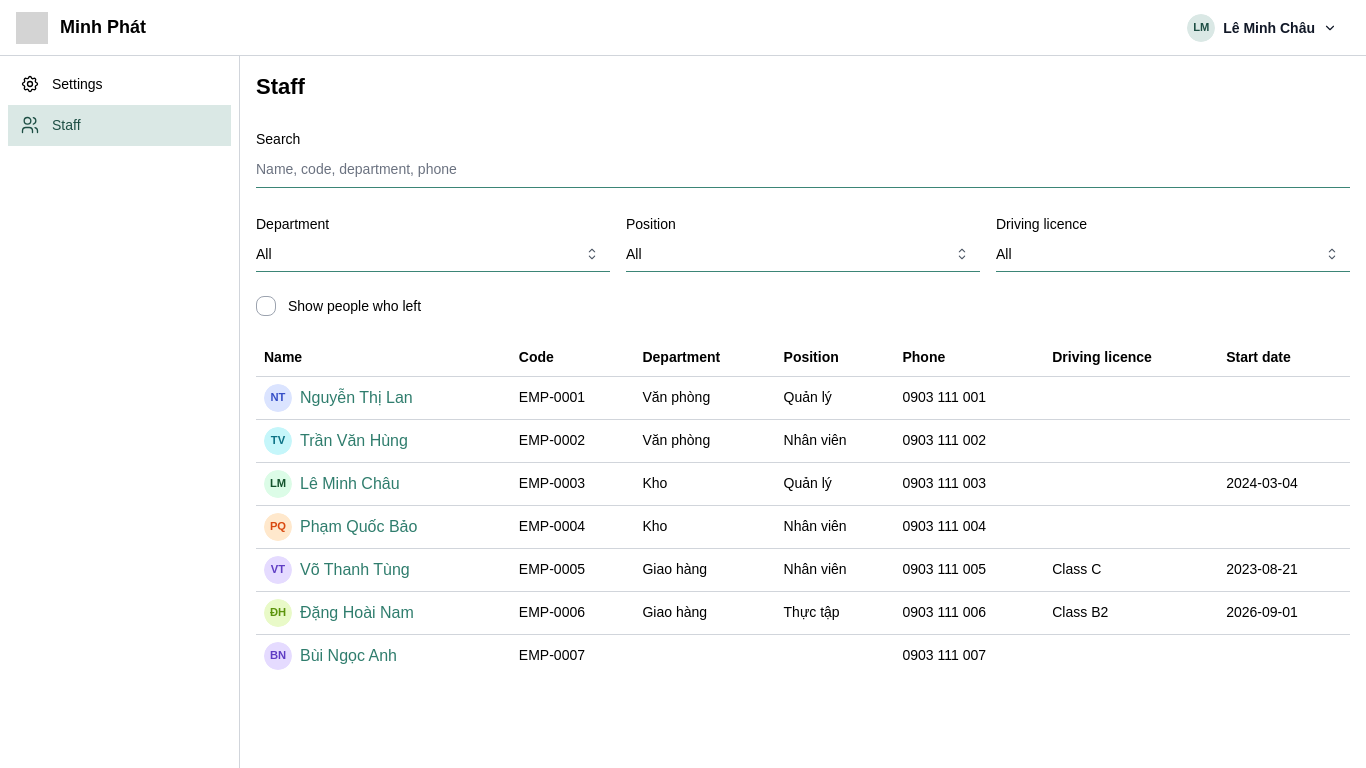
Test: Settings by permission › A department, a position or a person may be allowed to change the company’s settings: the page is in their menu and they save
Expected: the heading "Staff" is shown, top-left (256, 72), bottom-right (305, 103)
Click the link "Settings": click(61, 84) top-left (20, 74), bottom-right (103, 94)
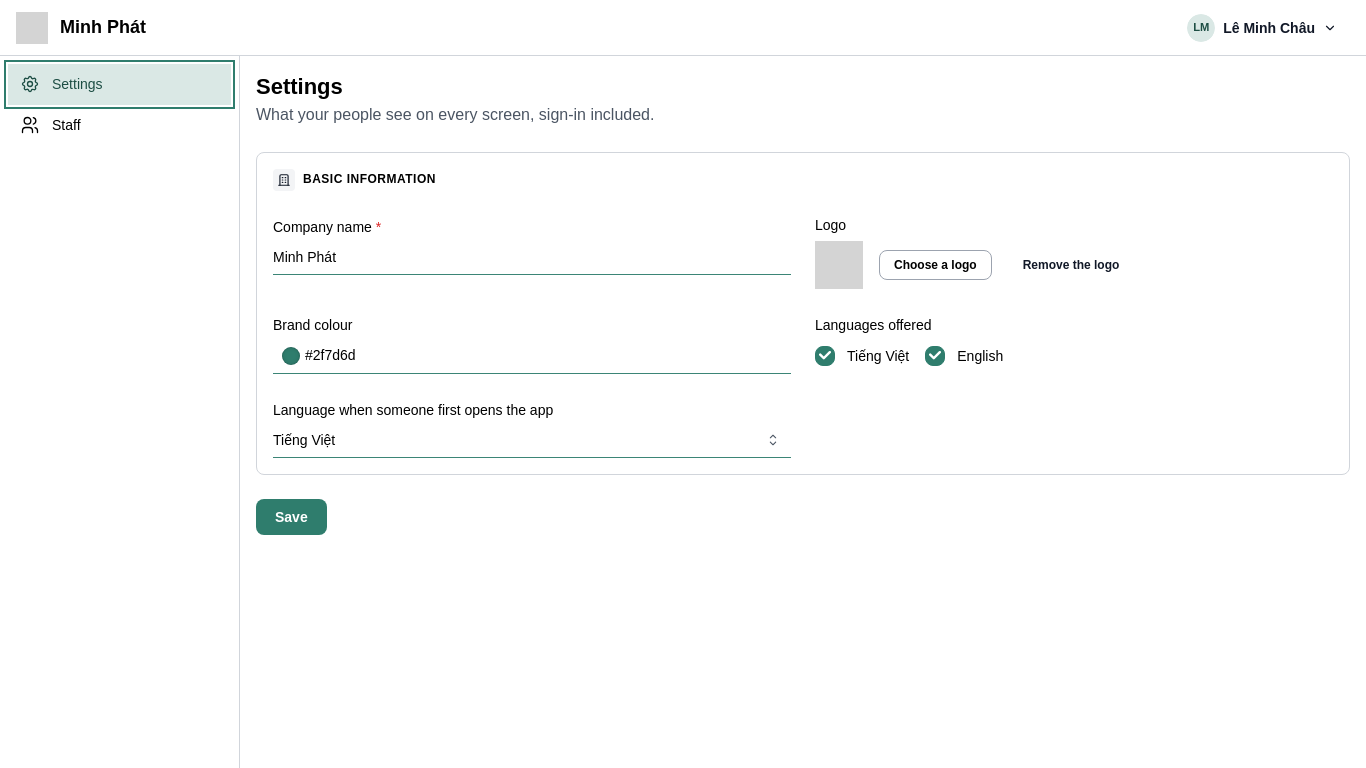
Replace the text in the field labelled "Company name *" with "Minh Phát 2": (532, 257) top-left (273, 239), bottom-right (791, 275)
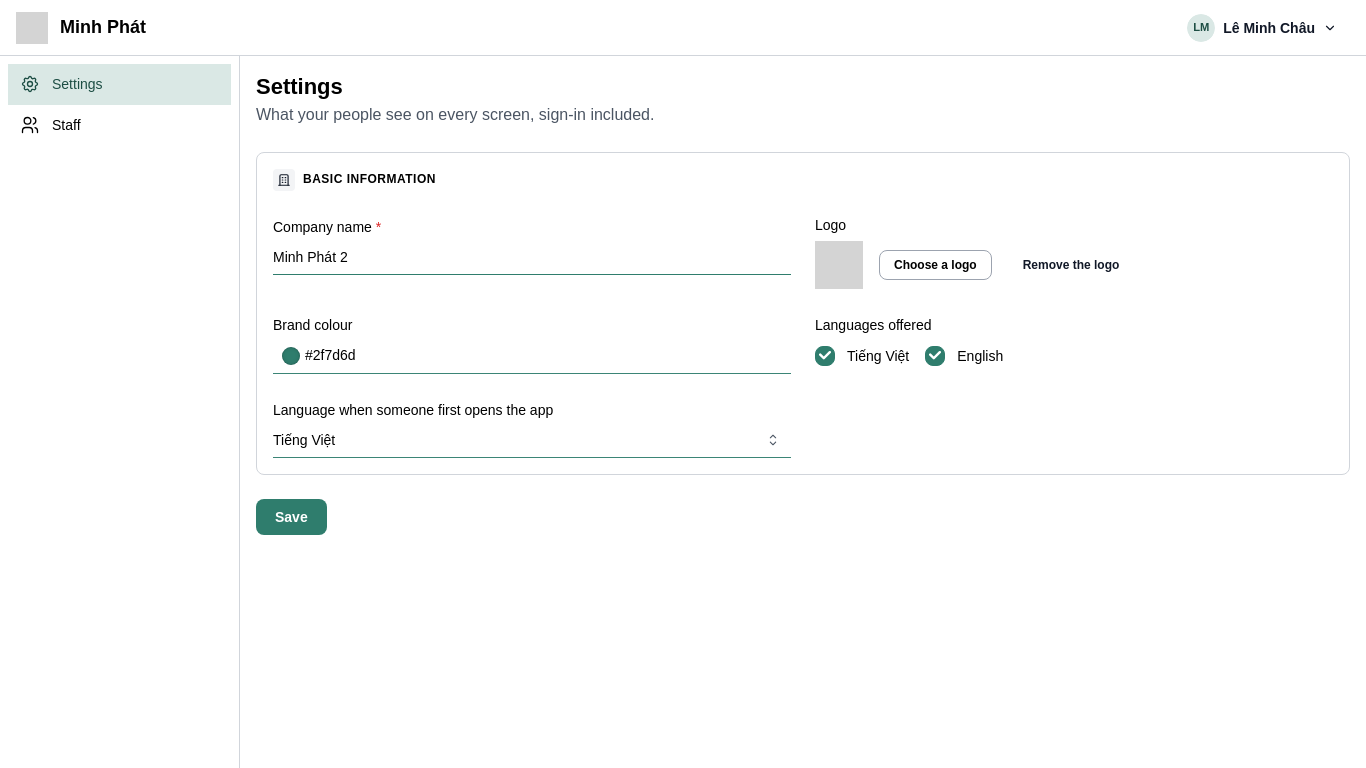
Click the button "Save": click(291, 518) top-left (256, 500), bottom-right (327, 536)
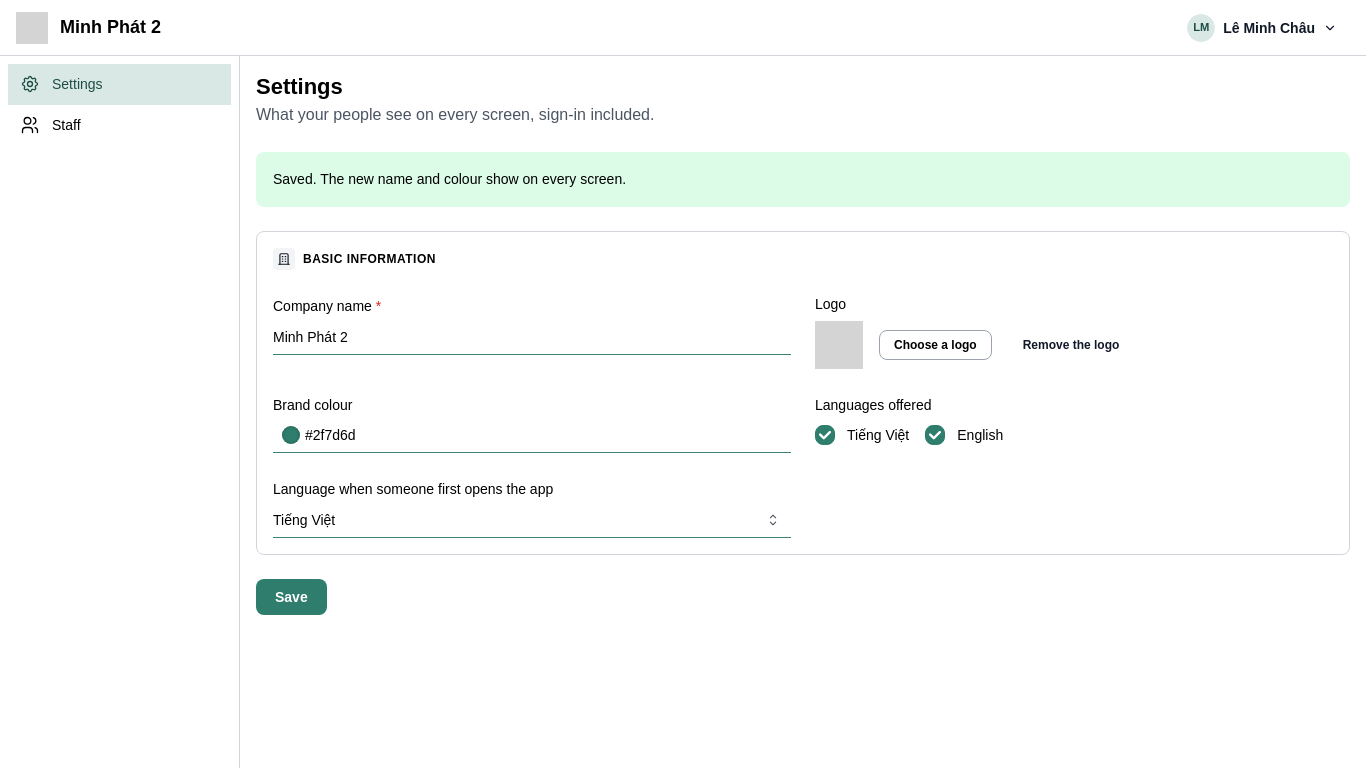
Expected: the text "Saved. The new name and colour show on every screen." is shown, top-left (273, 171), bottom-right (626, 187)
